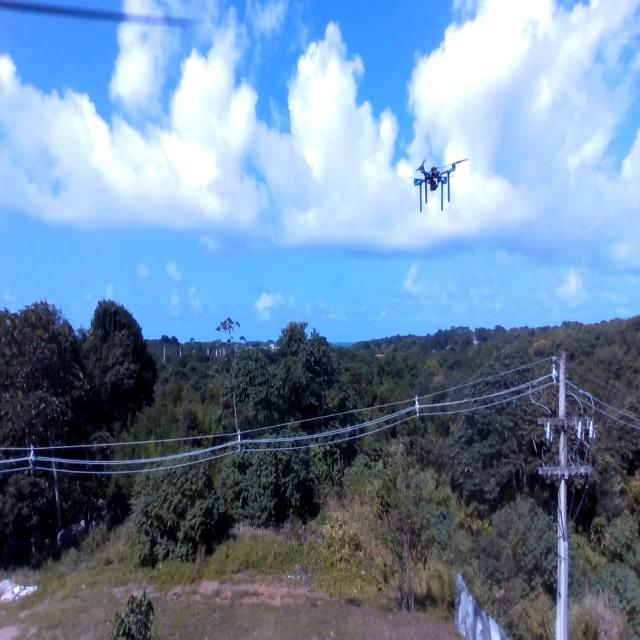-uav-: (406, 139, 477, 236)
